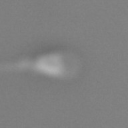normal: (1, 55, 38, 76)
